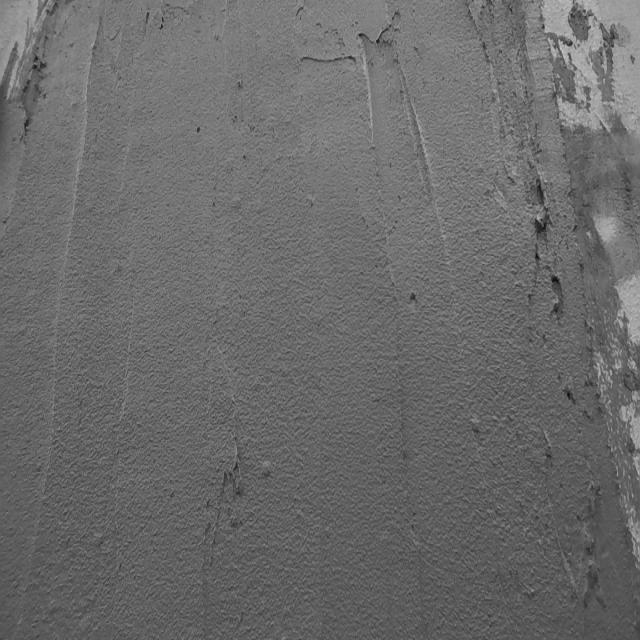trowels marks: (61, 14, 98, 345), (388, 242, 411, 560), (413, 80, 442, 250)
